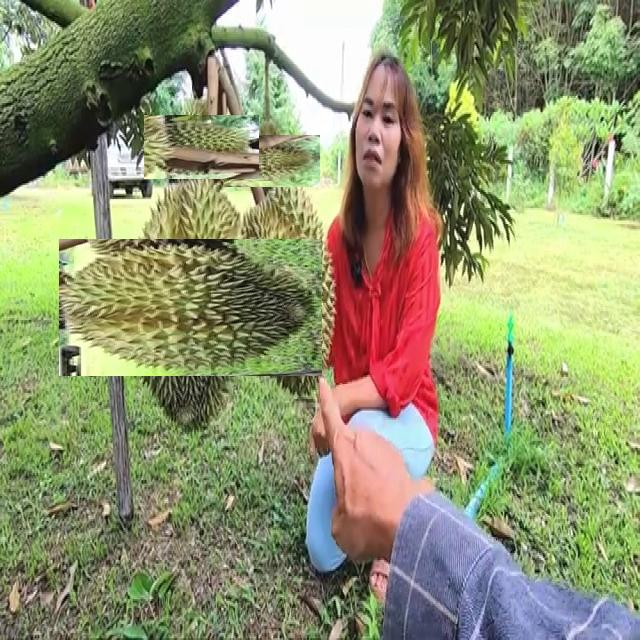durian: (90, 208, 291, 408), (234, 180, 342, 406), (156, 102, 246, 192), (234, 124, 309, 198)
